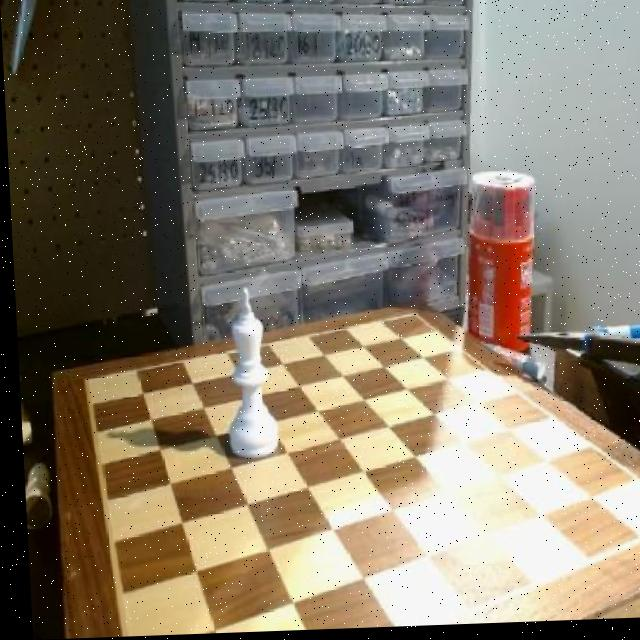white-bishop: (214, 286, 275, 462)
